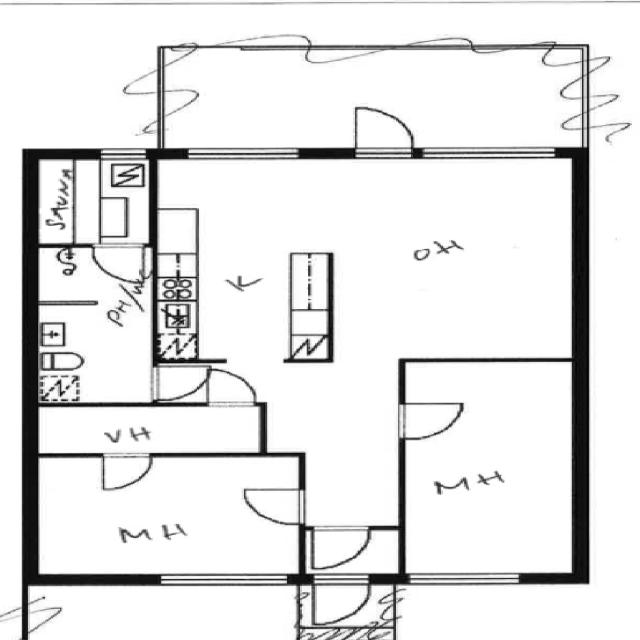door: (342, 104, 421, 160), (302, 523, 381, 571), (388, 394, 468, 441), (306, 574, 376, 625), (235, 483, 310, 526), (146, 359, 213, 405), (94, 451, 161, 494), (87, 241, 149, 281), (203, 368, 260, 408), (158, 84, 204, 116)
window: (416, 141, 564, 165), (151, 569, 289, 591), (173, 144, 308, 166), (399, 568, 530, 589), (91, 147, 151, 160)
zone: (152, 154, 579, 358), (398, 360, 578, 584), (30, 454, 302, 579), (32, 251, 154, 408), (25, 404, 269, 452), (32, 156, 150, 245)
